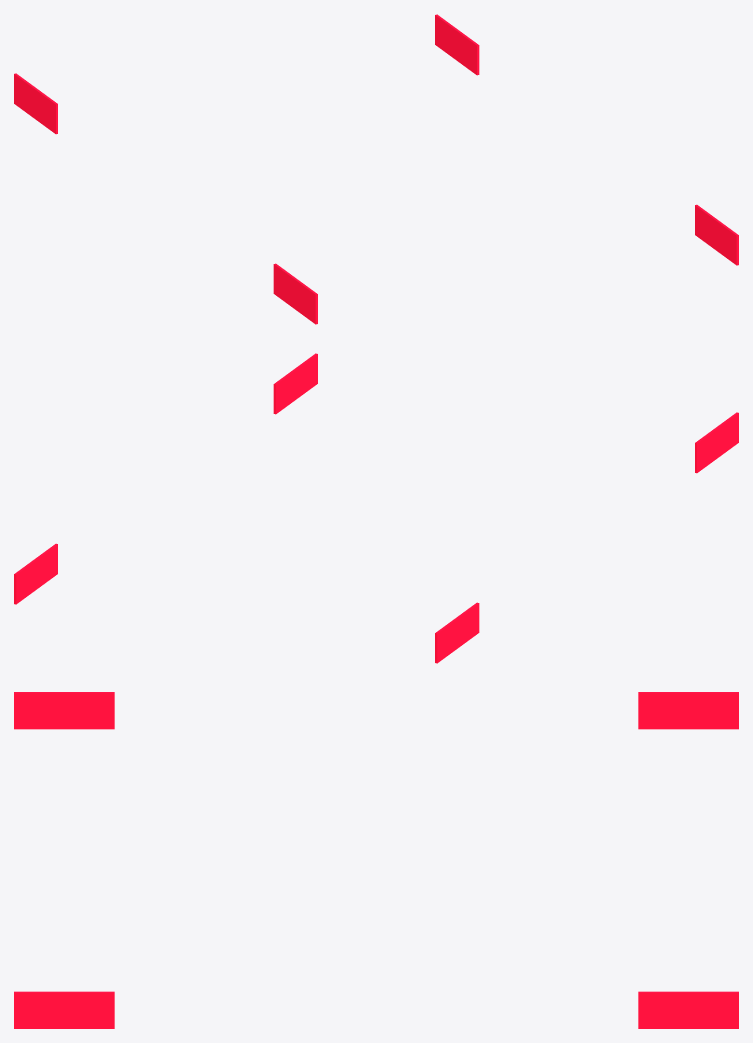
Rendered from trailer-brake.dae.
3 renders of one model, top to bottom at view 1: azimuth 30°, elevation 25°; view 2: azimuth 150°, elevation 25°; view 3: azimuth 270°, elevation 25°, orthographic. The views are drawn at different scales.
Parts seen in each view (by area): view 1: BigtruckBrakes; view 2: BigtruckBrakes; view 3: BigtruckBrakes.
Boxes of the visible parts, x1,y1,x2,y2 form: BigtruckBrakes: (14, 14, 738, 324); BigtruckBrakes: (14, 353, 738, 663); BigtruckBrakes: (14, 692, 738, 1028).
Size of the model in its own units: 0.6163 by 0.7608 by 0.1024.
